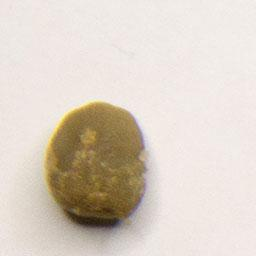peaberry: (43, 97, 153, 231)
